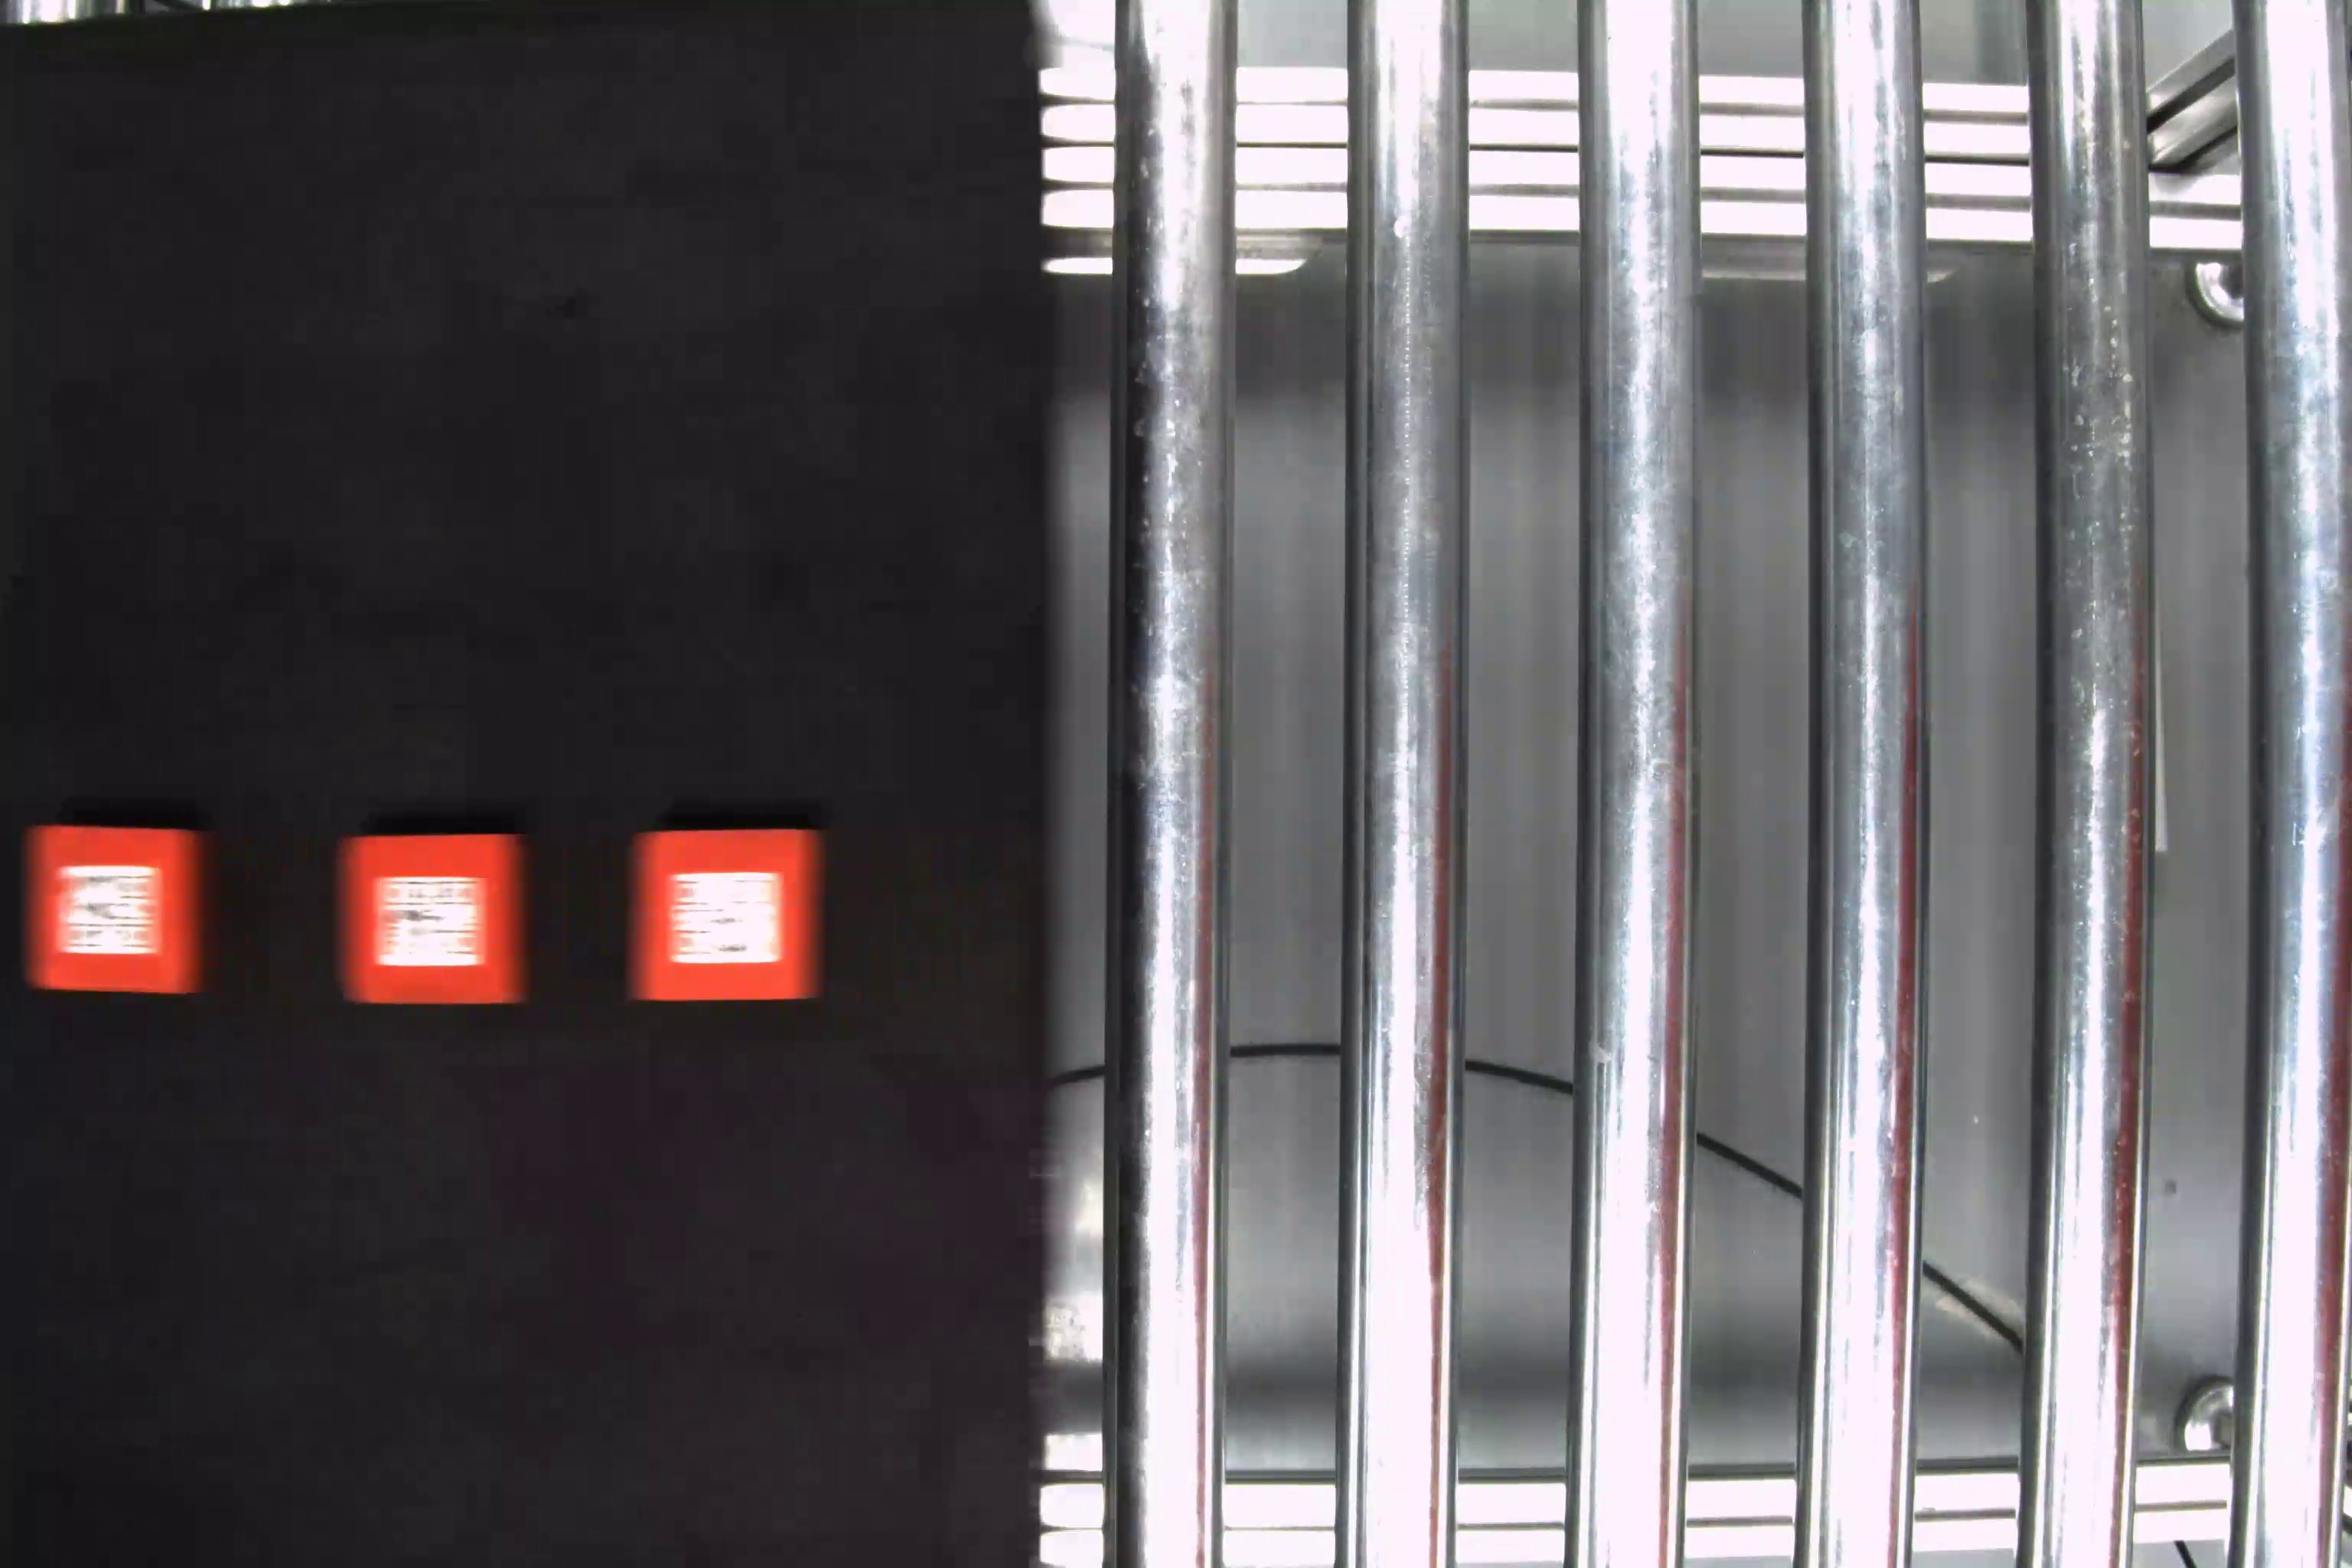wood: (325, 828, 532, 1011), (625, 828, 831, 1004), (24, 819, 208, 1003)
